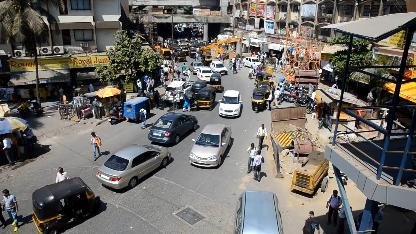auto-rikshaw: (33, 178, 102, 234), (198, 86, 216, 108), (252, 89, 266, 113)
car: (96, 143, 172, 189), (190, 124, 233, 168), (147, 113, 196, 147), (219, 88, 242, 118), (210, 60, 228, 74)
